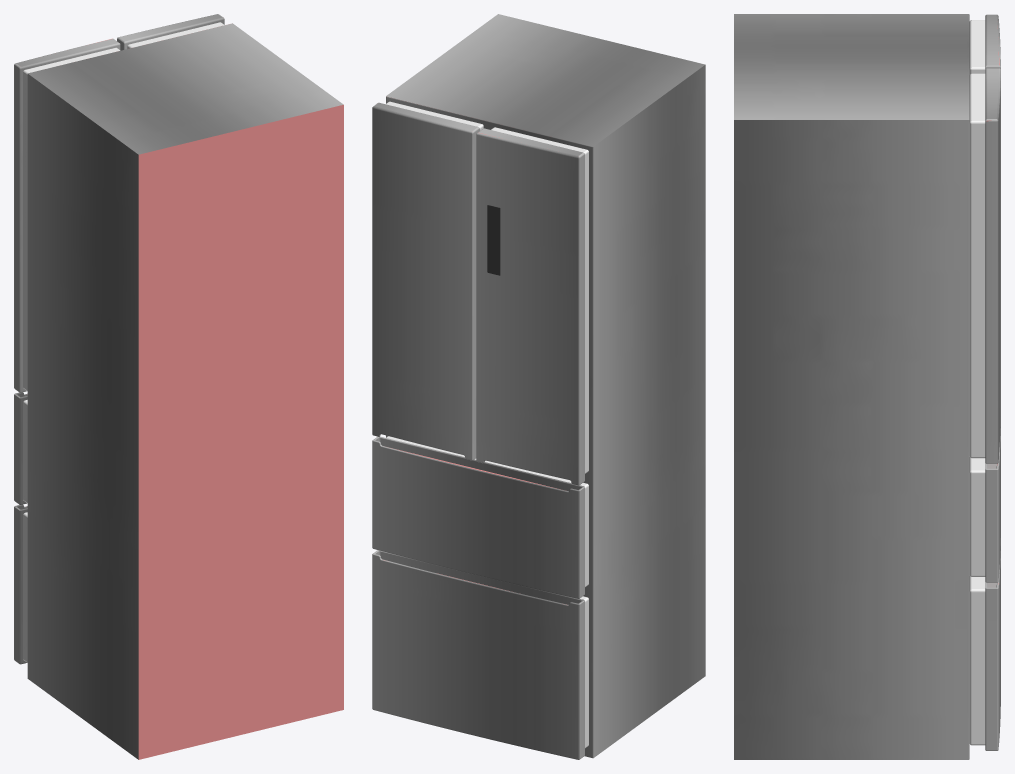
The picture shows the model from 3 angles, left to right: view 1: azimuth 30°, elevation 25°; view 2: azimuth 150°, elevation 25°; view 3: azimuth 270°, elevation 25°; orthographic projection. The views are drawn at different scales.
Parts seen in each view (by area): view 1: mesh_6_ROOT__组#2_Layer0_255_84_84_ds, mesh_4_ROOT__组#2_Layer0_158_158_158_ss, mesh_18_ROOT__组#7_Layer0_158_158_158_ss, mesh_23_ROOT__组#8_Layer0, mesh_0_ROOT__组#1_Layer0_158_158_158_ss, mesh_13_ROOT__组#6_Layer0_158_158_158_ss, mesh_9_ROOT__组#5_Layer0_158_158_158_ss, mesh_7_ROOT__组#3_Layer0; view 2: mesh_4_ROOT__组#2_Layer0_158_158_158_ss, mesh_18_ROOT__组#7_Layer0_158_158_158_ss, mesh_13_ROOT__组#6_Layer0_158_158_158_ss, mesh_0_ROOT__组#1_Layer0_158_158_158_ss, mesh_9_ROOT__组#5_Layer0_158_158_158_ss, mesh_23_ROOT__组#8_Layer0, mesh_22_ROOT__组#7_Layer0_15_15_15_ds, mesh_8_ROOT__组#4_Layer0, mesh_7_ROOT__组#3_Layer0; view 3: mesh_4_ROOT__组#2_Layer0_158_158_158_ss, mesh_17_ROOT__组#8_Layer0, mesh_13_ROOT__组#6_Layer0_158_158_158_ss, mesh_7_ROOT__组#3_Layer0, mesh_0_ROOT__组#1_Layer0_158_158_158_ss, mesh_8_ROOT__组#4_Layer0, mesh_9_ROOT__组#5_Layer0_158_158_158_ss, mesh_23_ROOT__组#8_Layer0, mesh_18_ROOT__组#7_Layer0_158_158_158_ss.
Boxes of the visible parts, <box> form: mesh_6_ROOT__组#2_Layer0_255_84_84_ds: <box>138,104,343,759</box>; mesh_4_ROOT__组#2_Layer0_158_158_158_ss: <box>27,23,343,759</box>; mesh_18_ROOT__组#7_Layer0_158_158_158_ss: <box>14,38,120,392</box>; mesh_23_ROOT__组#8_Layer0: <box>23,47,120,390</box>; mesh_0_ROOT__组#1_Layer0_158_158_158_ss: <box>14,504,27,664</box>; mesh_13_ROOT__组#6_Layer0_158_158_158_ss: <box>117,14,224,50</box>; mesh_9_ROOT__组#5_Layer0_158_158_158_ss: <box>14,392,27,504</box>; mesh_7_ROOT__组#3_Layer0: <box>23,512,27,662</box>; mesh_4_ROOT__组#2_Layer0_158_158_158_ss: <box>386,14,705,758</box>; mesh_18_ROOT__组#7_Layer0_158_158_158_ss: <box>476,128,584,485</box>; mesh_13_ROOT__组#6_Layer0_158_158_158_ss: <box>372,102,479,460</box>; mesh_0_ROOT__组#1_Layer0_158_158_158_ss: <box>372,550,584,759</box>; mesh_9_ROOT__组#5_Layer0_158_158_158_ss: <box>372,436,584,598</box>; mesh_23_ROOT__组#8_Layer0: <box>491,127,588,473</box>; mesh_22_ROOT__组#7_Layer0_15_15_15_ds: <box>487,205,500,275</box>; mesh_8_ROOT__组#4_Layer0: <box>386,436,588,587</box>; mesh_7_ROOT__组#3_Layer0: <box>580,596,588,748</box>; mesh_4_ROOT__组#2_Layer0_158_158_158_ss: <box>734,14,969,759</box>; mesh_17_ROOT__组#8_Layer0: <box>969,73,985,458</box>; mesh_13_ROOT__组#6_Layer0_158_158_158_ss: <box>985,68,1000,463</box>; mesh_7_ROOT__组#3_Layer0: <box>969,576,985,745</box>; mesh_0_ROOT__组#1_Layer0_158_158_158_ss: <box>985,538,1000,750</box>; mesh_8_ROOT__组#4_Layer0: <box>969,457,985,576</box>; mesh_9_ROOT__组#5_Layer0_158_158_158_ss: <box>985,416,1000,582</box>; mesh_23_ROOT__组#8_Layer0: <box>969,20,985,74</box>; mesh_18_ROOT__组#7_Layer0_158_158_158_ss: <box>985,14,1000,69</box>.
Bounding box in the file's own units: 640 × 1804 × 681.
6 materials, 1 textured.
